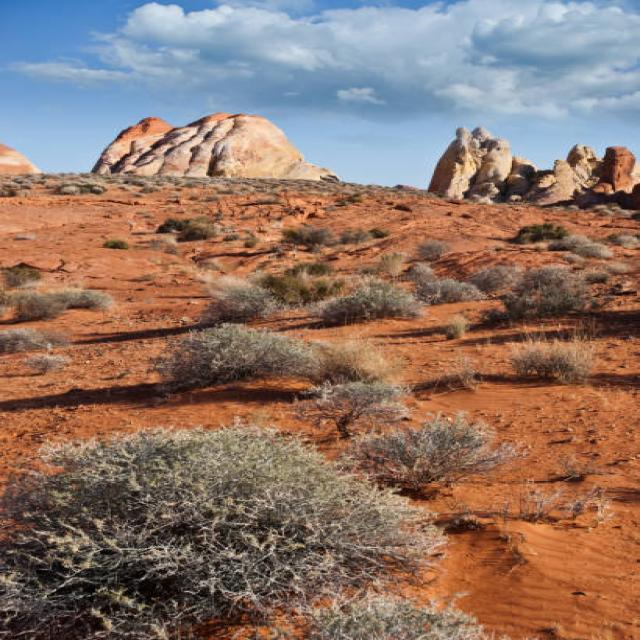Sedimentary: (89, 106, 345, 188), (423, 121, 638, 206)
